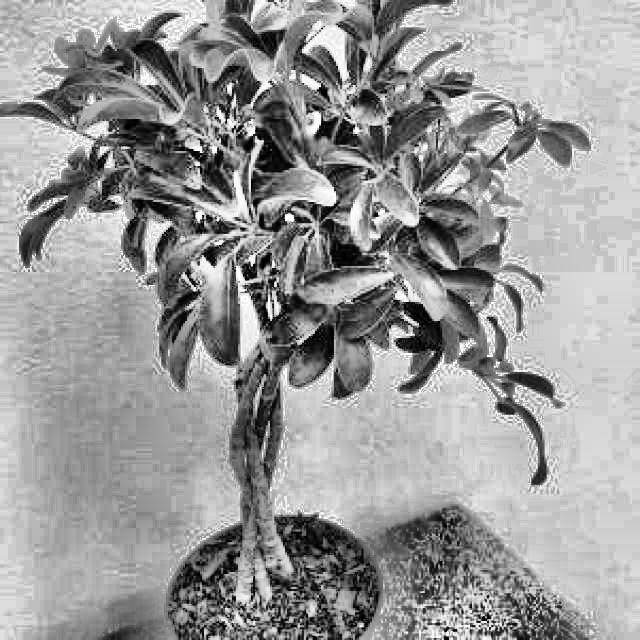plants: (3, 2, 567, 634)
